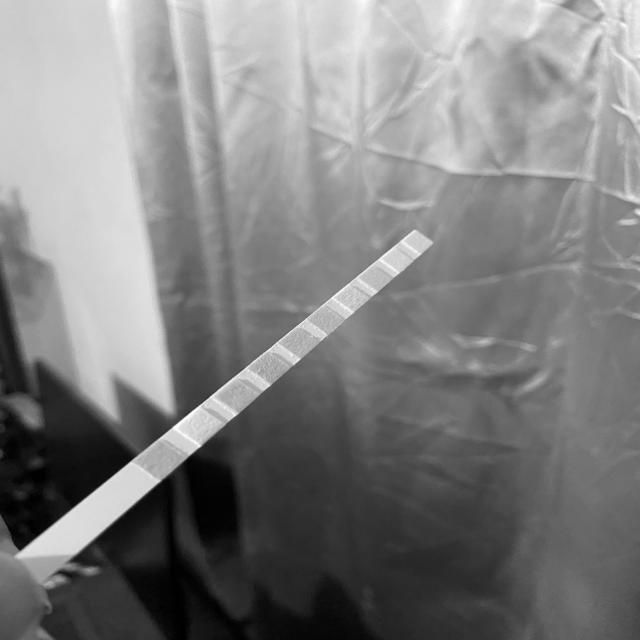Bilirubin: (185, 416, 214, 434)
Blood: (286, 335, 310, 350)
Glucose: (145, 449, 179, 466)
Ketone: (221, 387, 249, 405)
Leukocytes: (407, 236, 427, 246)
Nitrite: (385, 253, 407, 265)
Protein: (339, 292, 362, 304)
SpGravity: (256, 359, 280, 376)
Urobilinogen: (361, 273, 386, 283)
background: (0, 0, 640, 640)
pH: (313, 312, 335, 327)
strip: (18, 230, 436, 575)
